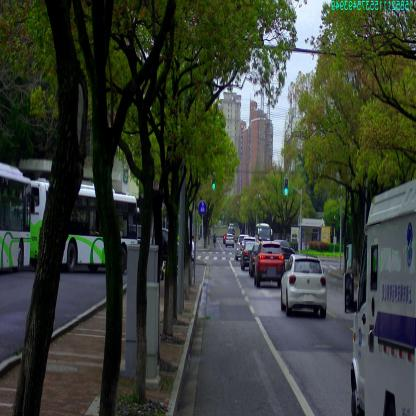traffic-light: (284, 177, 288, 195), (212, 173, 216, 190)
